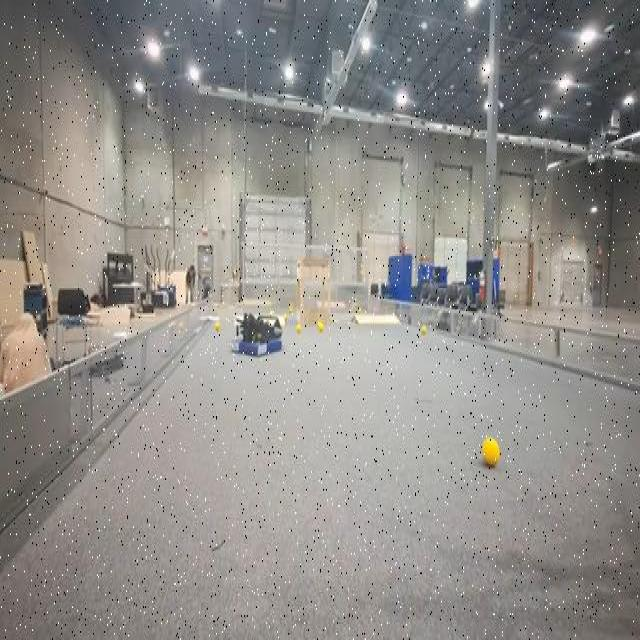Fuel: (482, 438, 500, 468), (317, 320, 323, 331), (317, 322, 323, 332), (296, 324, 302, 334), (296, 323, 301, 332), (215, 322, 220, 331), (421, 326, 426, 334)
